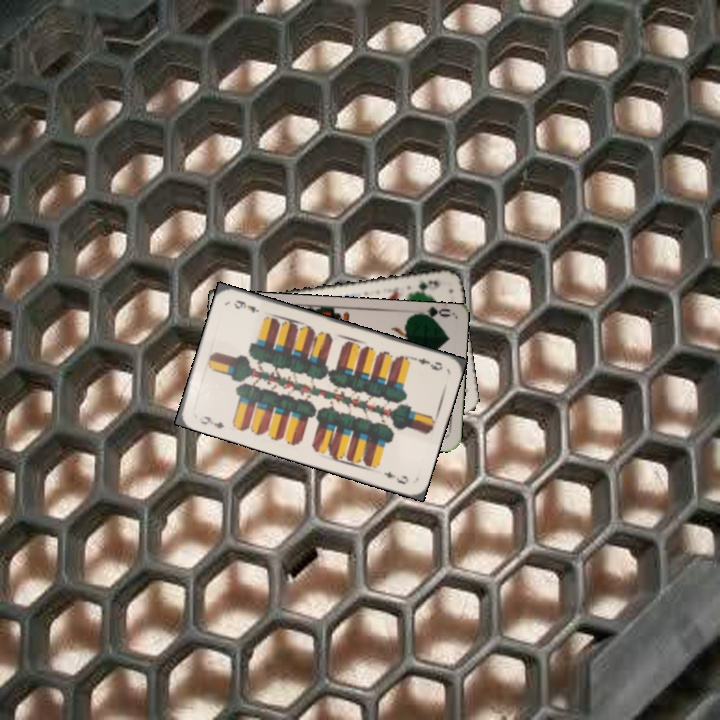E9: (408, 353, 445, 373), (197, 412, 227, 431)
GK: (407, 276, 443, 295)
GO: (412, 305, 452, 325)
